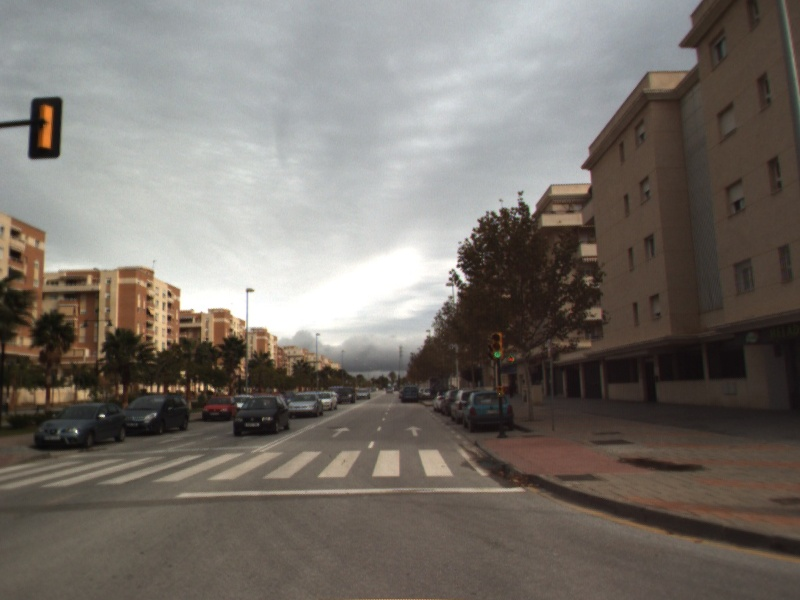STRAIGHT: (403, 424, 425, 438), (330, 425, 352, 439)
